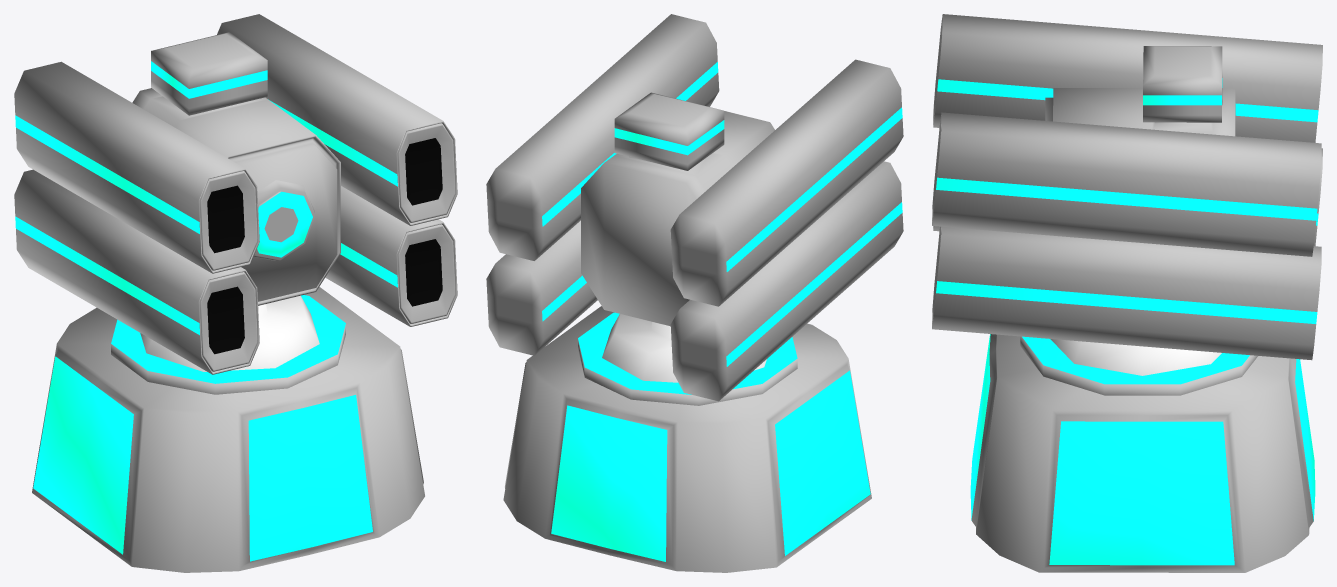
The picture shows the model from 3 angles, left to right: view 1: azimuth 30°, elevation 25°; view 2: azimuth 150°, elevation 25°; view 3: azimuth 270°, elevation 25°; orthographic projection. The views are drawn at different scales.
Parts seen in each view (by area): view 1: Box001_BaseColor_0, Box001_Rim_0, Box003, Box004, Box002, Box005, Box006, Cylinder004, Cylinder005, Cylinder006; view 2: Box001_BaseColor_0, Box003, Box001_Rim_0, Box002, Box004, Box005, Box006, Cylinder004, Cylinder005; view 3: Box005, Box006, Box001_BaseColor_0, Box001_Rim_0, Box003, Box002, Cylinder004, Cylinder005.
Boxes of the visible parts, bbox=[...] form: Box001_BaseColor_0: bbox=[32, 287, 424, 572]; Box001_Rim_0: bbox=[33, 356, 372, 561]; Box003: bbox=[14, 61, 259, 273]; Box004: bbox=[14, 169, 259, 374]; Box002: bbox=[132, 32, 340, 305]; Box005: bbox=[217, 14, 457, 225]; Box006: bbox=[325, 186, 457, 326]; Cylinder004: bbox=[111, 295, 345, 394]; Cylinder005: bbox=[140, 295, 319, 371]; Cylinder006: bbox=[253, 180, 315, 260]; Box001_BaseColor_0: bbox=[503, 306, 871, 572]; Box003: bbox=[670, 59, 903, 306]; Box001_Rim_0: bbox=[551, 370, 870, 561]; Box002: bbox=[581, 92, 774, 326]; Box004: bbox=[670, 161, 903, 401]; Box005: bbox=[486, 14, 719, 260]; Box006: bbox=[486, 220, 597, 355]; Cylinder004: bbox=[578, 312, 797, 405]; Cylinder005: bbox=[602, 314, 766, 382]; Box005: bbox=[932, 112, 1321, 256]; Box006: bbox=[932, 226, 1321, 360]; Box001_BaseColor_0: bbox=[971, 334, 1313, 572]; Box001_Rim_0: bbox=[970, 334, 1315, 565]; Box003: bbox=[933, 14, 1322, 142]; Box002: bbox=[1045, 46, 1235, 136]; Cylinder004: bbox=[1020, 336, 1257, 395]; Cylinder005: bbox=[1050, 339, 1221, 375].
Bounding box in the file's own units: 25.27 × 34.45 × 27.81.
